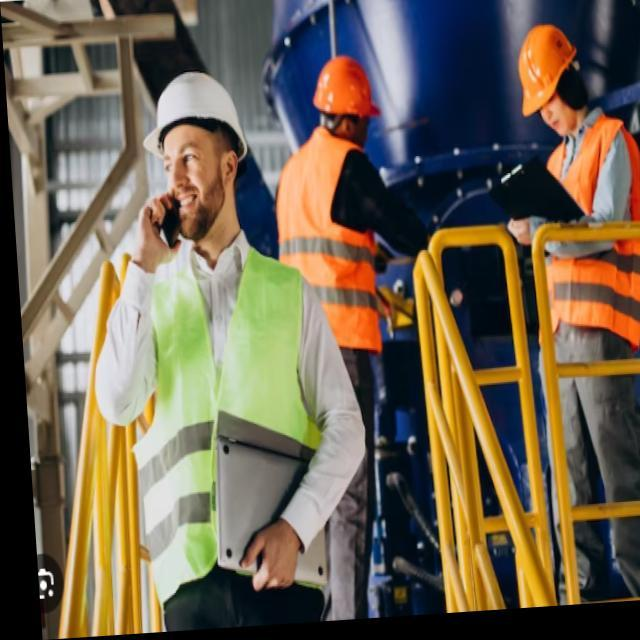hard_hat: (149, 65, 257, 245), (507, 16, 593, 150), (308, 50, 386, 157)
vest: (119, 228, 340, 617), (263, 125, 402, 366), (522, 110, 640, 360)
